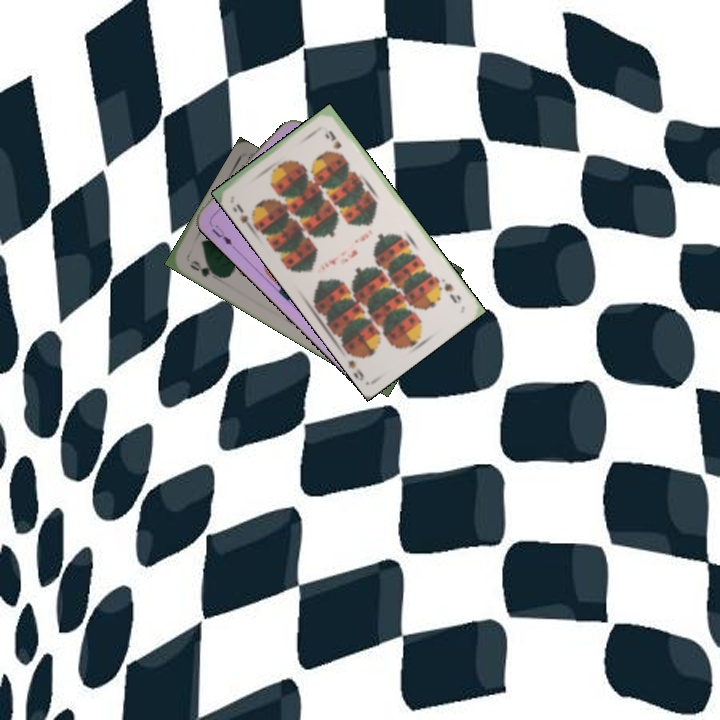EU: (208, 220, 237, 251)
GO: (185, 256, 221, 280)
S9: (228, 199, 260, 232), (440, 278, 464, 306)
